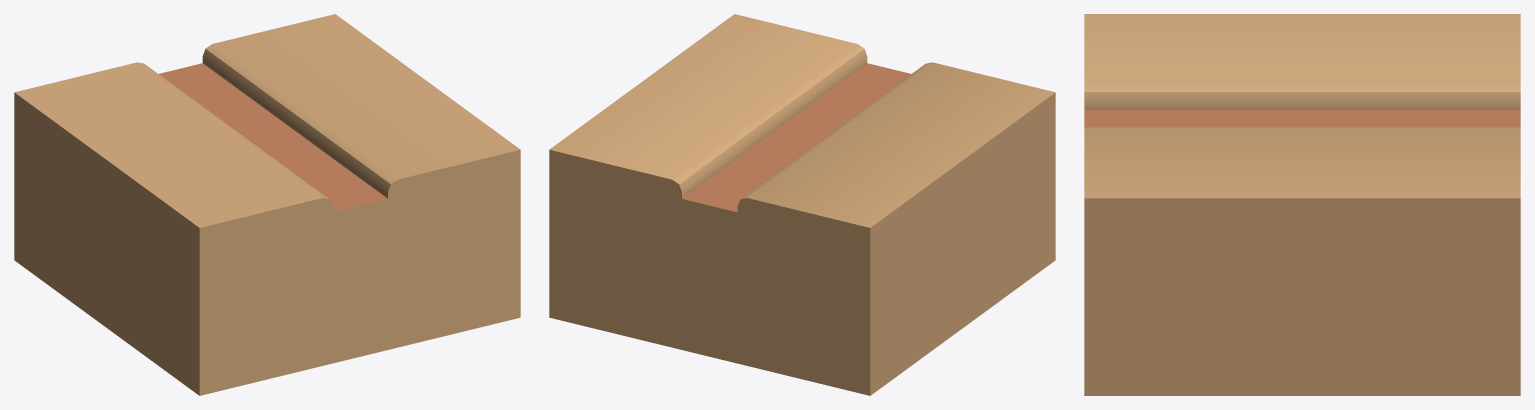
The model's file is kaykit-square-sand-roadb.glb.
The picture shows the model from 3 angles, left to right: view 1: azimuth 30°, elevation 25°; view 2: azimuth 150°, elevation 25°; view 3: azimuth 270°, elevation 25°; orthographic projection. The views are drawn at different scales.
Visible parts, largest first — view 1: square_sand_roadB; view 2: square_sand_roadB; view 3: square_sand_roadB.
Boxes of the visible parts, bbox=[...] form: square_sand_roadB: bbox=[14, 14, 520, 395]; square_sand_roadB: bbox=[549, 14, 1055, 395]; square_sand_roadB: bbox=[1084, 14, 1520, 395].
Bounding box in the file's own units: 2 × 0.9998 × 2.
